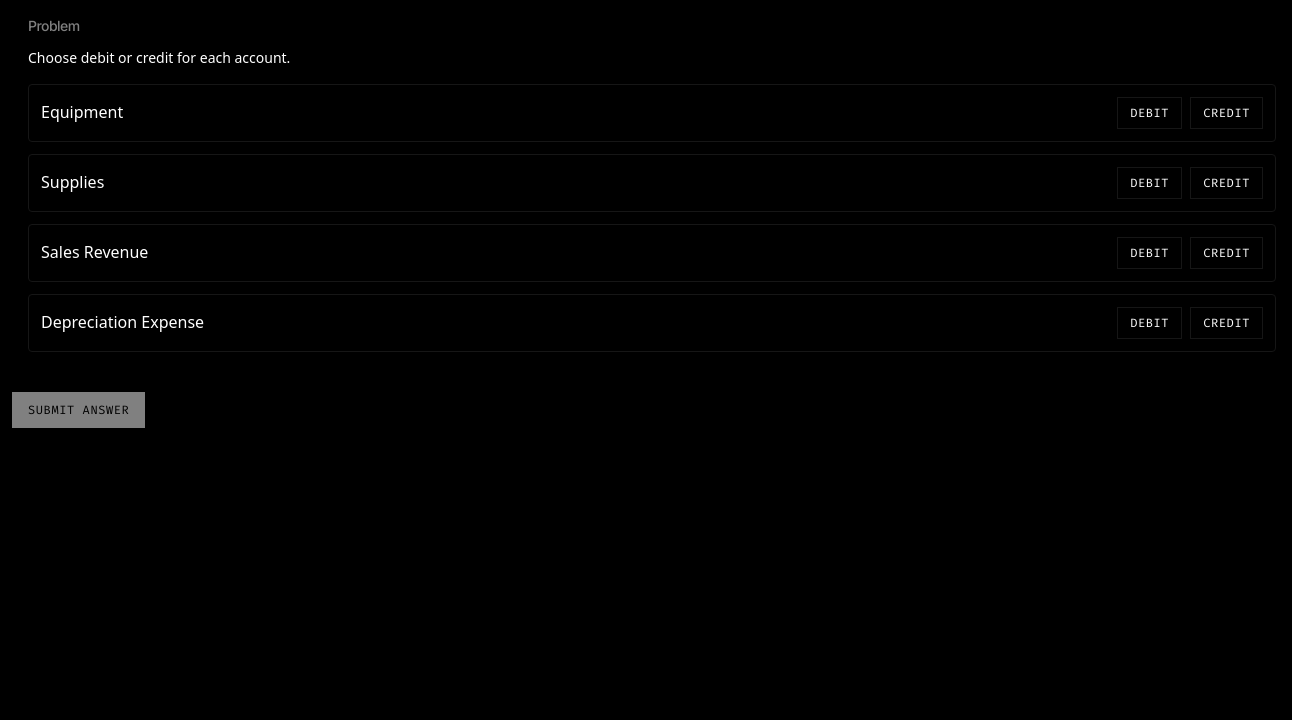
Scenario: NormalBalanceInput › hides the submit button after grading and shows the result
Step 1. Click the button "Debit" in the row of "Equipment" → (1150, 113), box [1117,97,1182,129]
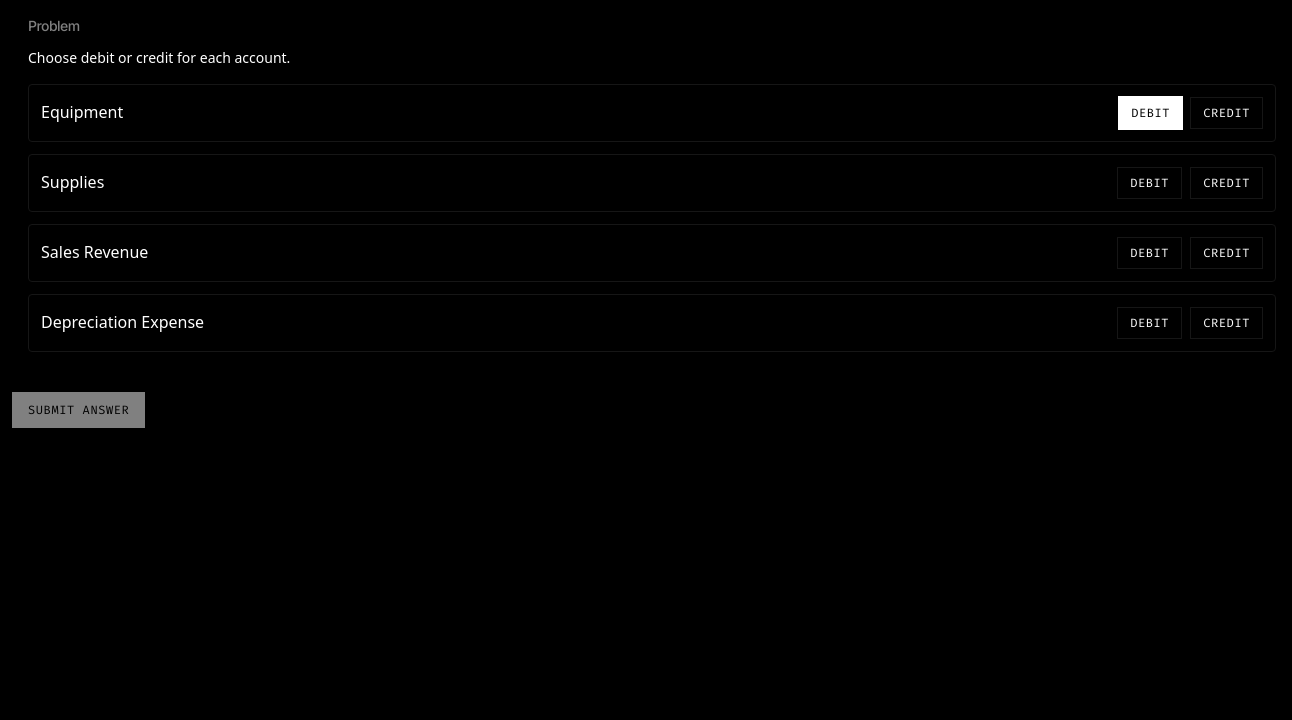
Step 2. Click the button "Debit" in the row of "Supplies" → (1150, 183), box [1117,167,1182,199]
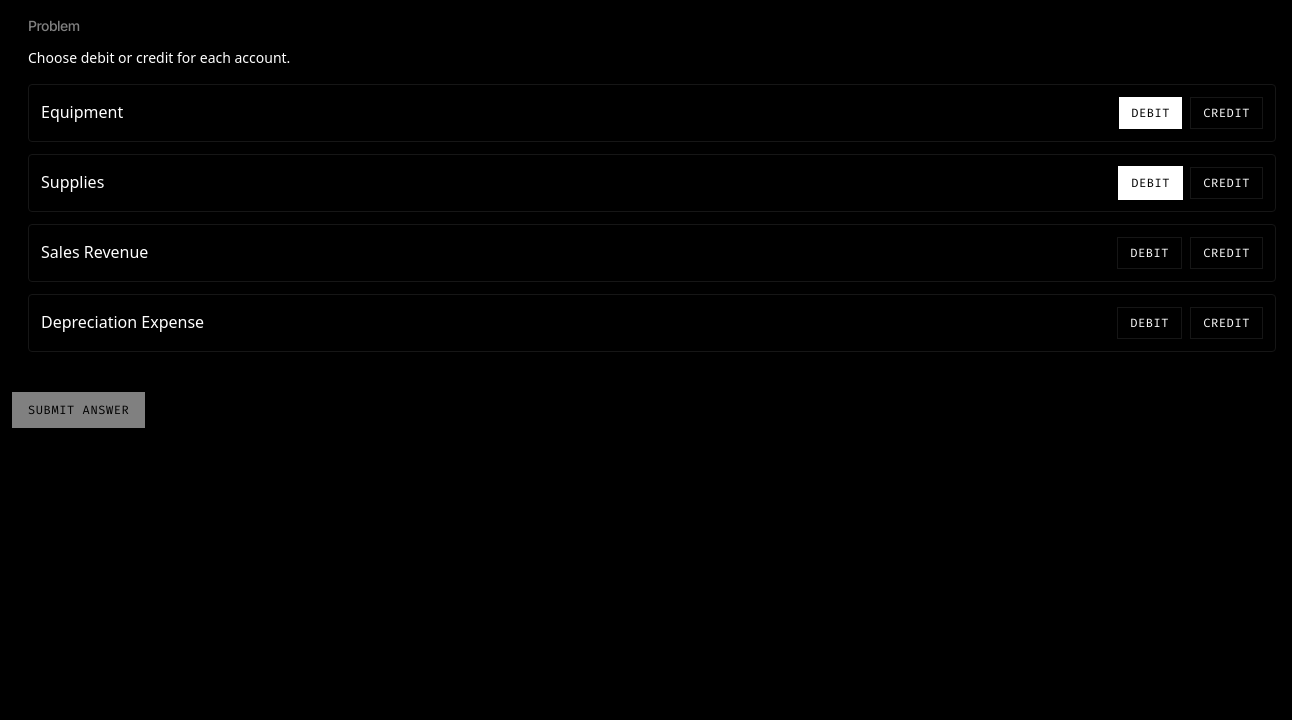
Step 3. Click the button "Credit" in the row of "Sales Revenue" → (1227, 253), box [1190,237,1263,269]
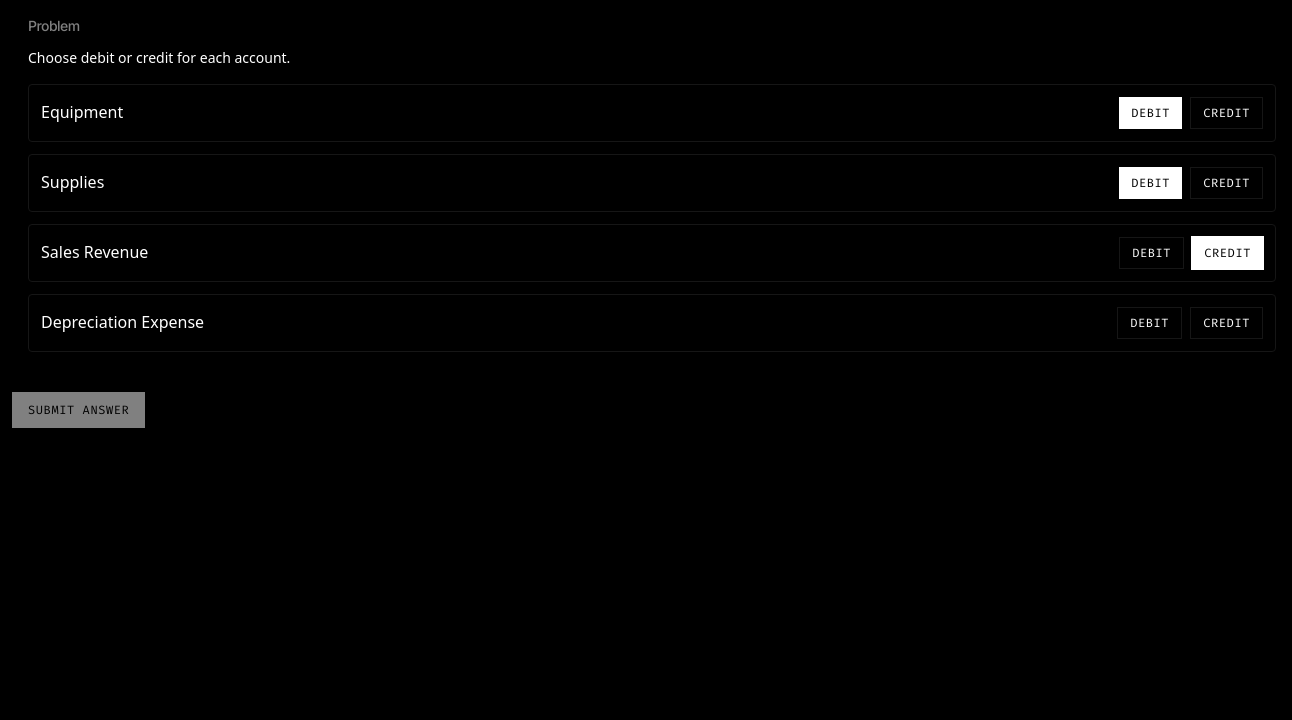
Step 4. Click the button "Debit" in the row of "Depreciation Expense" → (1150, 323), box [1117,307,1182,339]
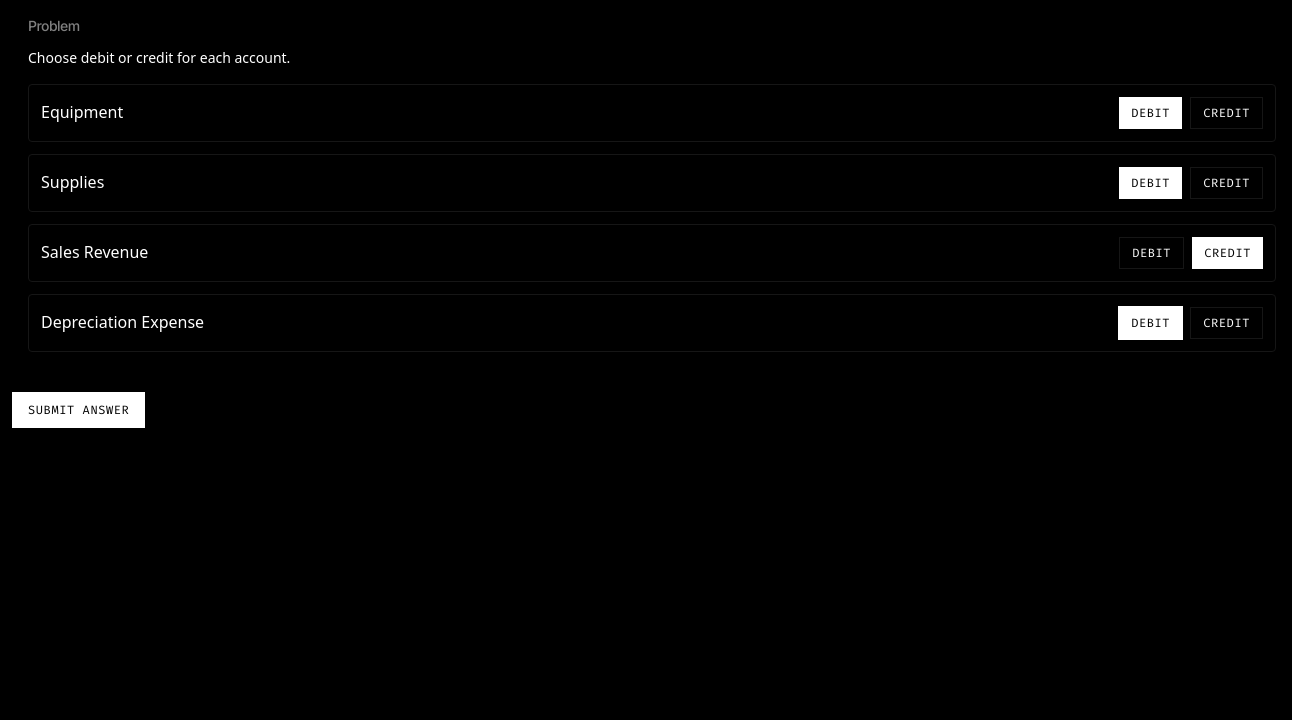
Step 5. Click the button "Submit Answer" → (79, 410), box [12,392,145,428]
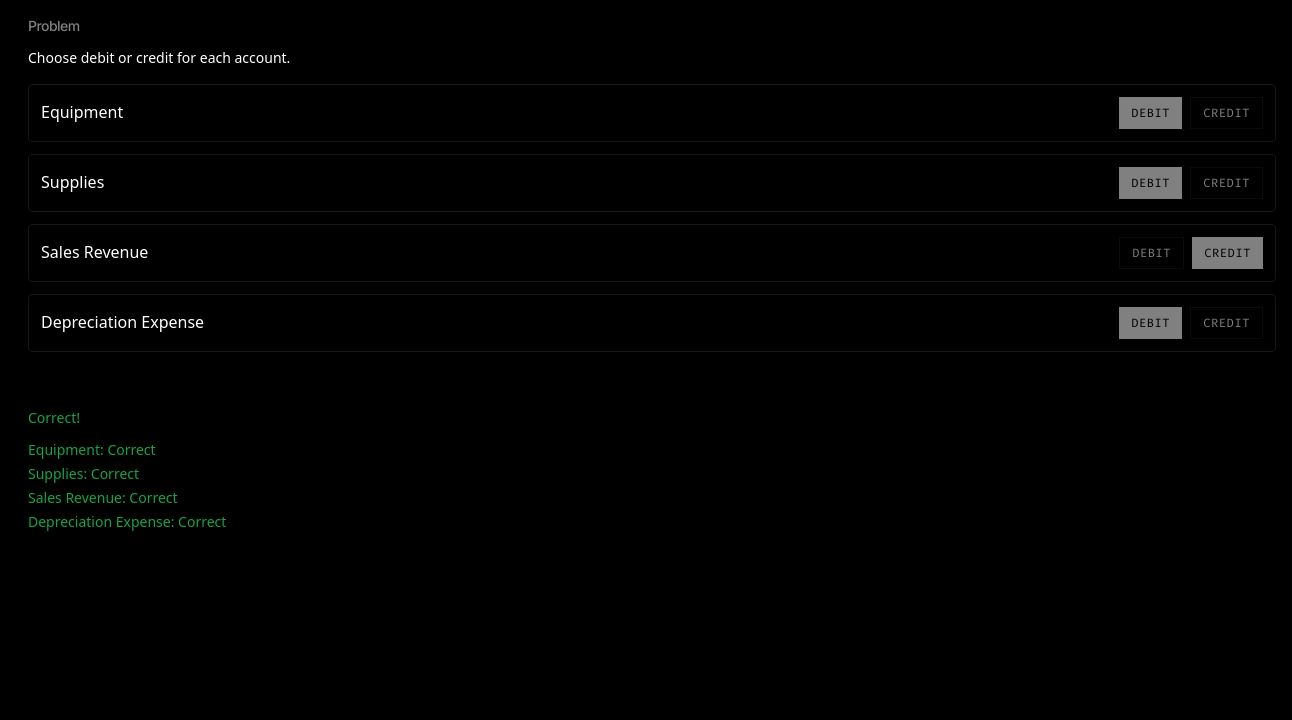
Result: the button "Submit Answer" is gone
Result: the text "Correct!" is shown at [28,408,80,427]
